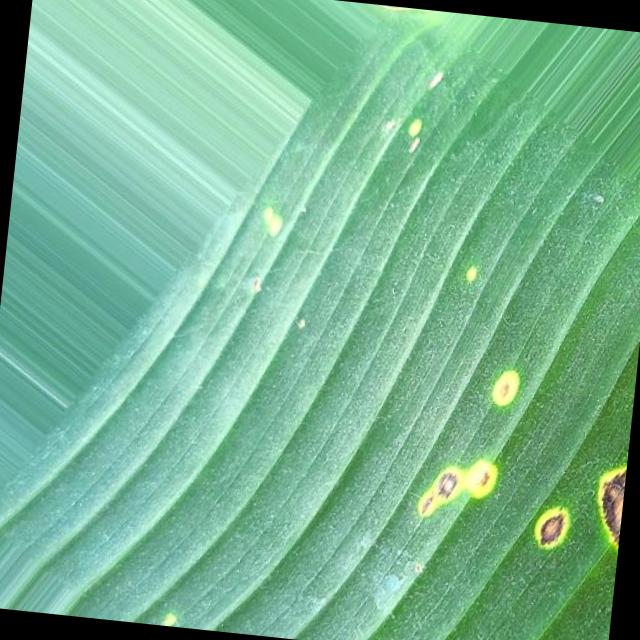Banana_Black_Sigatoka: (405, 328, 639, 640)
